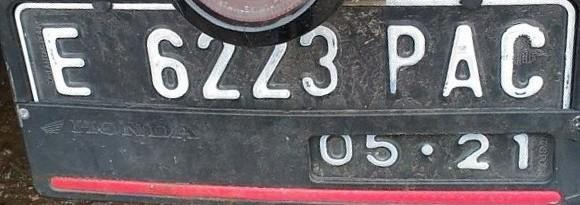2: (244, 23, 294, 106), (196, 28, 244, 104)
3: (290, 22, 349, 99)
6: (137, 29, 196, 100)
A: (430, 19, 489, 99)
C: (492, 20, 558, 100)
E: (31, 28, 106, 98)
P: (379, 21, 432, 100)
